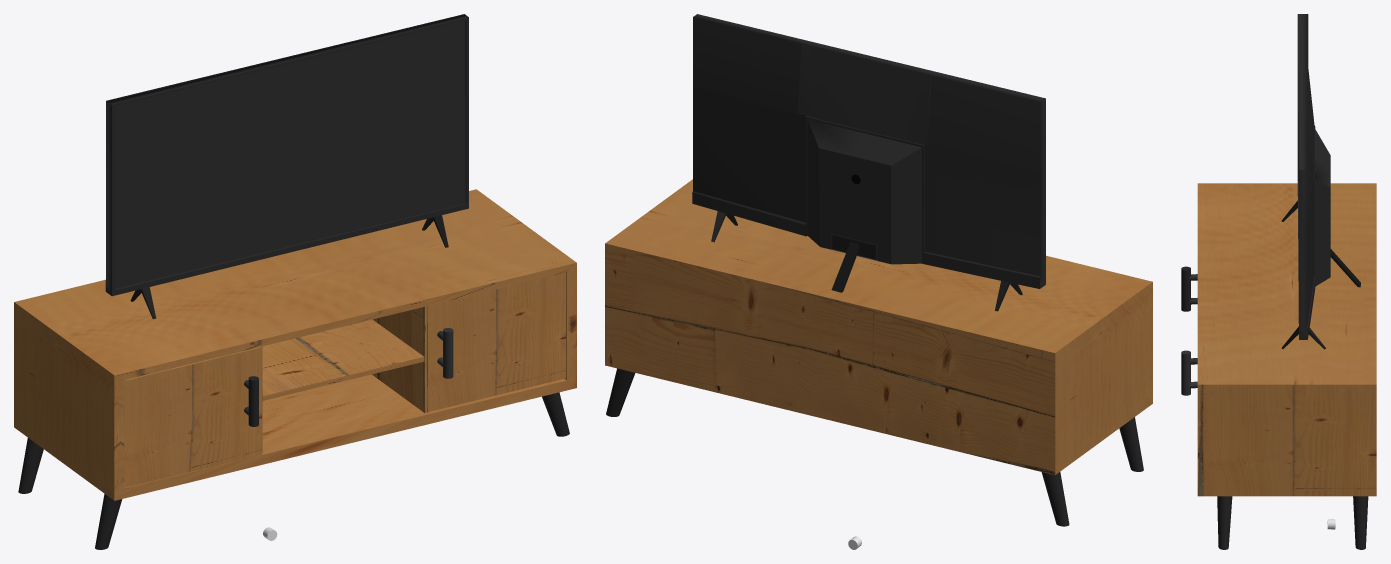
File: Table and TV.fbx
3 renders of one model, left to right at view 1: azimuth 30°, elevation 25°; view 2: azimuth 150°, elevation 25°; view 3: azimuth 270°, elevation 25°, orthographic. The views are drawn at different scales.
Visible parts, largest first — view 1: Cube.006, Plane.003, Cube.010, Cube.009, Cube, Cube.011, Cube.007, Cylinder.008, Cylinder.010, Cylinder.009; view 2: Cube.006, Cube, Cylinder.010, Cylinder.011, Cylinder.008; view 3: Cube.006, Cube, Cylinder.011, Cylinder.009, Cylinder.007, Cylinder.002, Cube.001.
Boxes of the visible parts, x1,y1,x2,y2 form: Cube.006: (14, 189, 576, 500); Plane.003: (115, 20, 465, 288); Cube.010: (124, 346, 261, 487); Cube.009: (427, 272, 565, 411); Cube: (105, 14, 468, 296); Cube.011: (262, 319, 424, 400); Cube.007: (372, 306, 428, 412); Cylinder.008: (95, 494, 122, 549); Cylinder.010: (18, 438, 43, 493); Cylinder.009: (542, 392, 569, 436); Cube.006: (605, 179, 1152, 474); Cube: (692, 14, 1045, 288); Cylinder.010: (1041, 472, 1069, 526); Cylinder.011: (606, 368, 635, 416); Cylinder.008: (1119, 417, 1143, 471); Cube.006: (1197, 183, 1376, 496); Cube: (1297, 14, 1330, 339); Cylinder.011: (1353, 496, 1368, 549); Cylinder.009: (1217, 496, 1232, 549); Cylinder.007: (1181, 350, 1190, 395); Cylinder.002: (1181, 266, 1190, 311); Cube.001: (1330, 249, 1360, 287).
Size of what is drawn, in the model's own units: 417 by 413 by 167.
